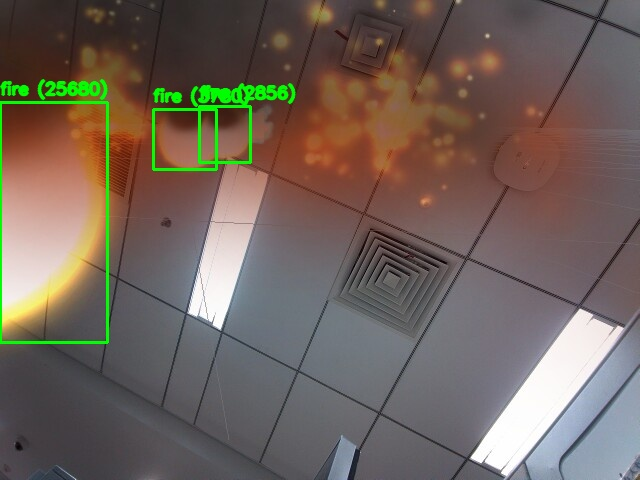fire: (0, 102, 107, 342), (153, 109, 216, 169), (199, 106, 250, 162)
